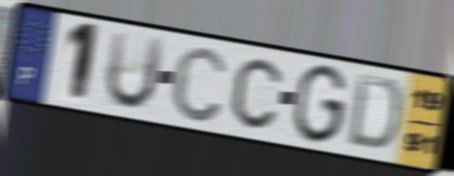1: (62, 21, 100, 109)
C: (168, 43, 230, 125), (229, 56, 284, 132)
D: (344, 71, 405, 154)
G: (290, 62, 351, 147)
U: (103, 28, 167, 113)
